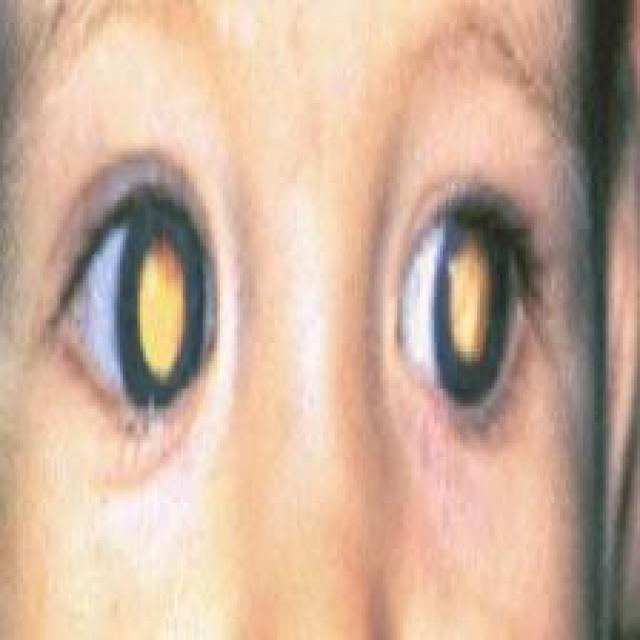reflexo-alterado: (367, 162, 584, 504), (46, 172, 241, 444)
